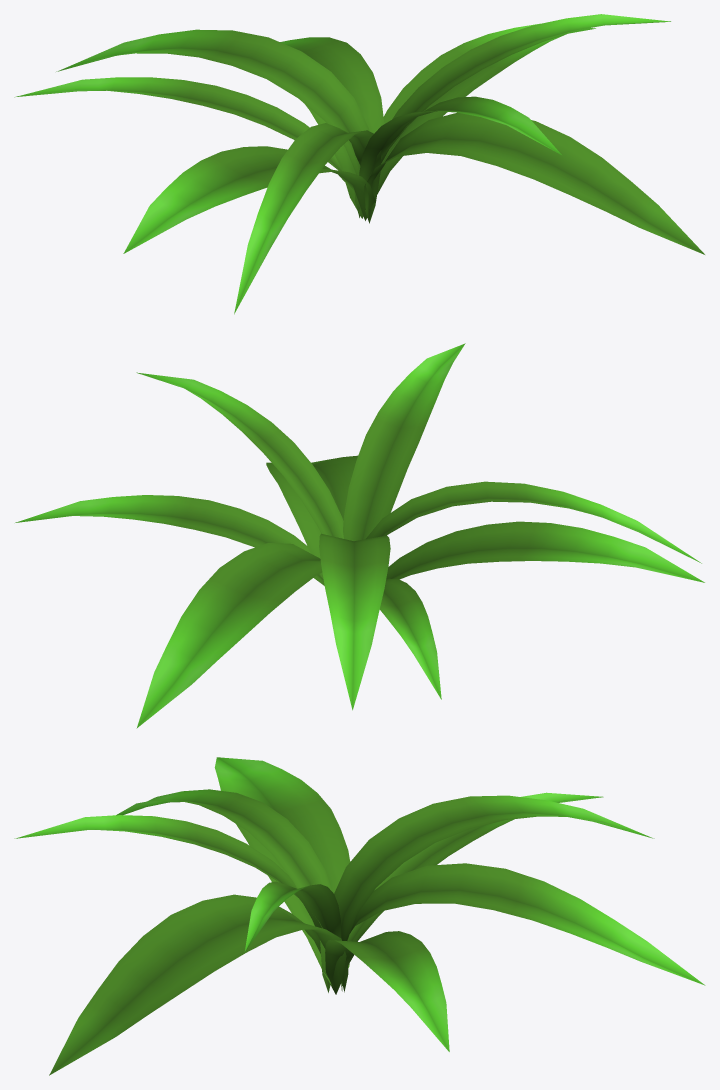
File: SM_Plant_Flower21.fbx
The picture shows the model from 3 angles, top to bottom: view 1: azimuth 30°, elevation 25°; view 2: azimuth 150°, elevation 25°; view 3: azimuth 270°, elevation 25°; orthographic projection. The views are drawn at different scales.
Parts seen in each view (by area): view 1: SM_Plant_Flower21; view 2: SM_Plant_Flower21; view 3: SM_Plant_Flower21.
Part boxes in pixels (x1=…): SM_Plant_Flower21: x1=14, y1=14, x2=704, y2=314; SM_Plant_Flower21: x1=15, y1=343, x2=704, y2=728; SM_Plant_Flower21: x1=14, y1=757, x2=705, y2=1075.
Bounding box in the file's own units: 95.28 × 94.31 × 27.99.
1 material, 1 textured.
